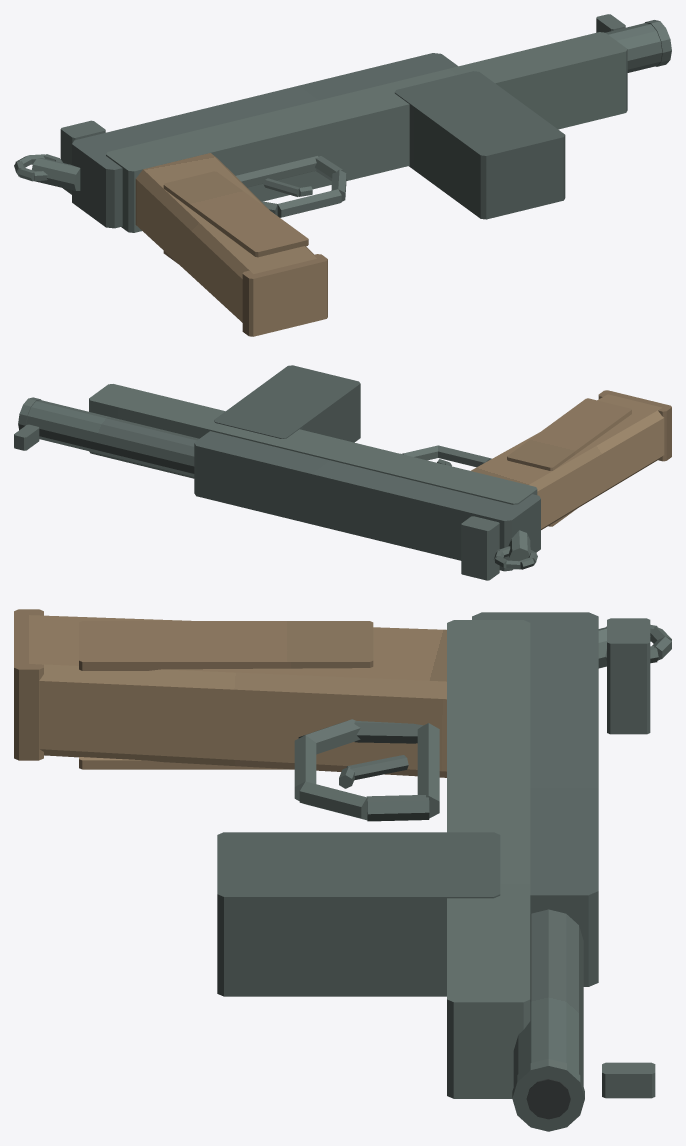
File: weapon-mauser-c96.glb
The picture shows the model from 3 angles, top to bottom: view 1: azimuth 30°, elevation 25°; view 2: azimuth 150°, elevation 25°; view 3: azimuth 270°, elevation 25°; orthographic projection. The views are drawn at different scales.
Parts seen in each view (by area): view 1: weapon-mauser-c96/lower-frame, weapon-mauser-c96/forward-magazine-box, weapon-mauser-c96/rear-receiver, weapon-mauser-c96/eight-sided-grip, weapon-mauser-c96/independent-grip-panels-left, weapon-mauser-c96/eight-sided-grip-heel, weapon-mauser-c96/exposed-round-barrel, weapon-mauser-c96/hollow-trigger-guard-1, weapon-mauser-c96/external-ring-hammer-1, weapon-mauser-c96/hollow-trigger-guard-4, weapon-mauser-c96/rear-sight, weapon-mauser-c96/exposed-round-barrel-end-rim; view 2: weapon-mauser-c96/rear-receiver, weapon-mauser-c96/lower-frame, weapon-mauser-c96/eight-sided-grip, weapon-mauser-c96/forward-magazine-box, weapon-mauser-c96/exposed-round-barrel, weapon-mauser-c96/independent-grip-panels-left, weapon-mauser-c96/rear-sight, weapon-mauser-c96/eight-sided-grip-heel, weapon-mauser-c96/hollow-trigger-guard-4, weapon-mauser-c96/external-ring-hammer-1, weapon-mauser-c96/front-sight; view 3: weapon-mauser-c96/forward-magazine-box, weapon-mauser-c96/eight-sided-grip, weapon-mauser-c96/lower-frame, weapon-mauser-c96/rear-receiver, weapon-mauser-c96/independent-grip-panels-left, weapon-mauser-c96/exposed-round-barrel, weapon-mauser-c96/rear-sight, weapon-mauser-c96/eight-sided-grip-heel, weapon-mauser-c96/exposed-round-barrel-end-rim, weapon-mauser-c96/front-sight, weapon-mauser-c96/hollow-trigger-guard-1, weapon-mauser-c96/hollow-trigger-guard-2 (+7 smaller).
Boxes of the visible parts, <box> form: weapon-mauser-c96/lower-frame: <box>106,32,627,232</box>; weapon-mauser-c96/forward-magazine-box: <box>394,71,565,219</box>; weapon-mauser-c96/rear-receiver: <box>72,53,457,228</box>; weapon-mauser-c96/eight-sided-grip: <box>135,153,316,322</box>; weapon-mauser-c96/independent-grip-panels-left: <box>163,171,308,257</box>; weapon-mauser-c96/eight-sided-grip-heel: <box>242,254,327,336</box>; weapon-mauser-c96/exposed-round-barrel: <box>606,23,662,72</box>; weapon-mauser-c96/hollow-trigger-guard-1: <box>236,156,318,187</box>; weapon-mauser-c96/external-ring-hammer-1: <box>32,158,80,190</box>; weapon-mauser-c96/hollow-trigger-guard-4: <box>277,189,341,217</box>; weapon-mauser-c96/rear-sight: <box>60,120,105,194</box>; weapon-mauser-c96/exposed-round-barrel-end-rim: <box>645,20,671,66</box>; weapon-mauser-c96/rear-receiver: <box>194,431,540,571</box>; weapon-mauser-c96/lower-frame: <box>89,384,537,504</box>; weapon-mauser-c96/eight-sided-grip: <box>471,394,664,529</box>; weapon-mauser-c96/forward-magazine-box: <box>214,365,360,442</box>; weapon-mauser-c96/exposed-round-barrel: <box>26,400,199,476</box>; weapon-mauser-c96/independent-grip-panels-left: <box>507,398,631,470</box>; weapon-mauser-c96/rear-sight: <box>461,516,499,580</box>; weapon-mauser-c96/eight-sided-grip-heel: <box>598,390,671,461</box>; weapon-mauser-c96/hollow-trigger-guard-4: <box>438,445,491,467</box>; weapon-mauser-c96/external-ring-hammer-1: <box>508,530,530,561</box>; weapon-mauser-c96/front-sight: <box>14,424,39,450</box>; weapon-mauser-c96/forward-magazine-box: <box>217,832,500,996</box>; weapon-mauser-c96/eight-sided-grip: <box>29,615,446,777</box>; weapon-mauser-c96/lower-frame: <box>447,620,530,1098</box>; weapon-mauser-c96/rear-receiver: <box>472,612,598,986</box>; weapon-mauser-c96/independent-grip-panels-left: <box>79,621,373,670</box>; weapon-mauser-c96/exposed-round-barrel: <box>513,909,583,1086</box>; weapon-mauser-c96/rear-sight: <box>607,618,650,734</box>; weapon-mauser-c96/eight-sided-grip-heel: <box>14,609,43,760</box>; weapon-mauser-c96/exposed-round-barrel-end-rim: <box>512,1059,584,1131</box>; weapon-mauser-c96/front-sight: <box>602,1062,655,1098</box>; weapon-mauser-c96/hollow-trigger-guard-1: <box>417,723,439,818</box>; weapon-mauser-c96/hollow-trigger-guard-2: <box>366,795,429,821</box>.
Size of the model in its own units: 0.3358 by 0.0356 by 0.1975.
3 materials, 3 textured.
